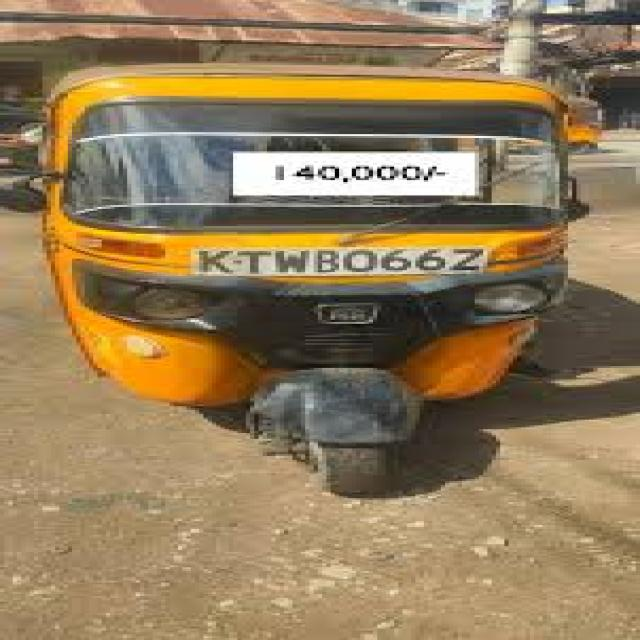tuktuk: (4, 23, 620, 524)
